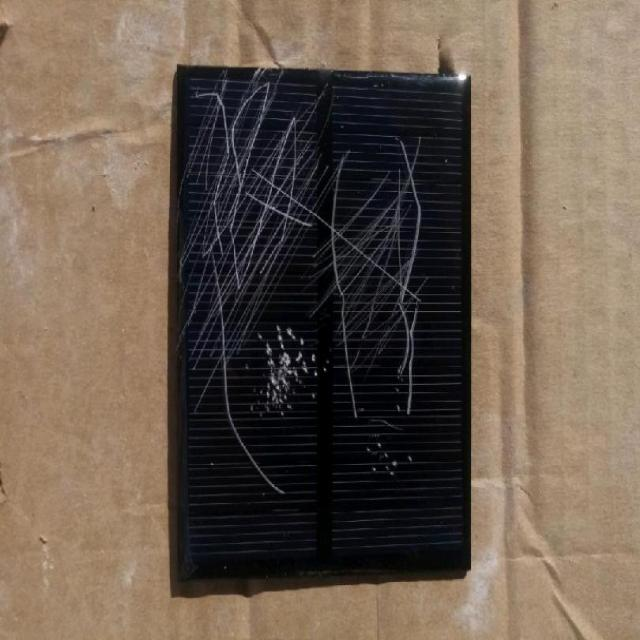faulty: (172, 74, 467, 574)
